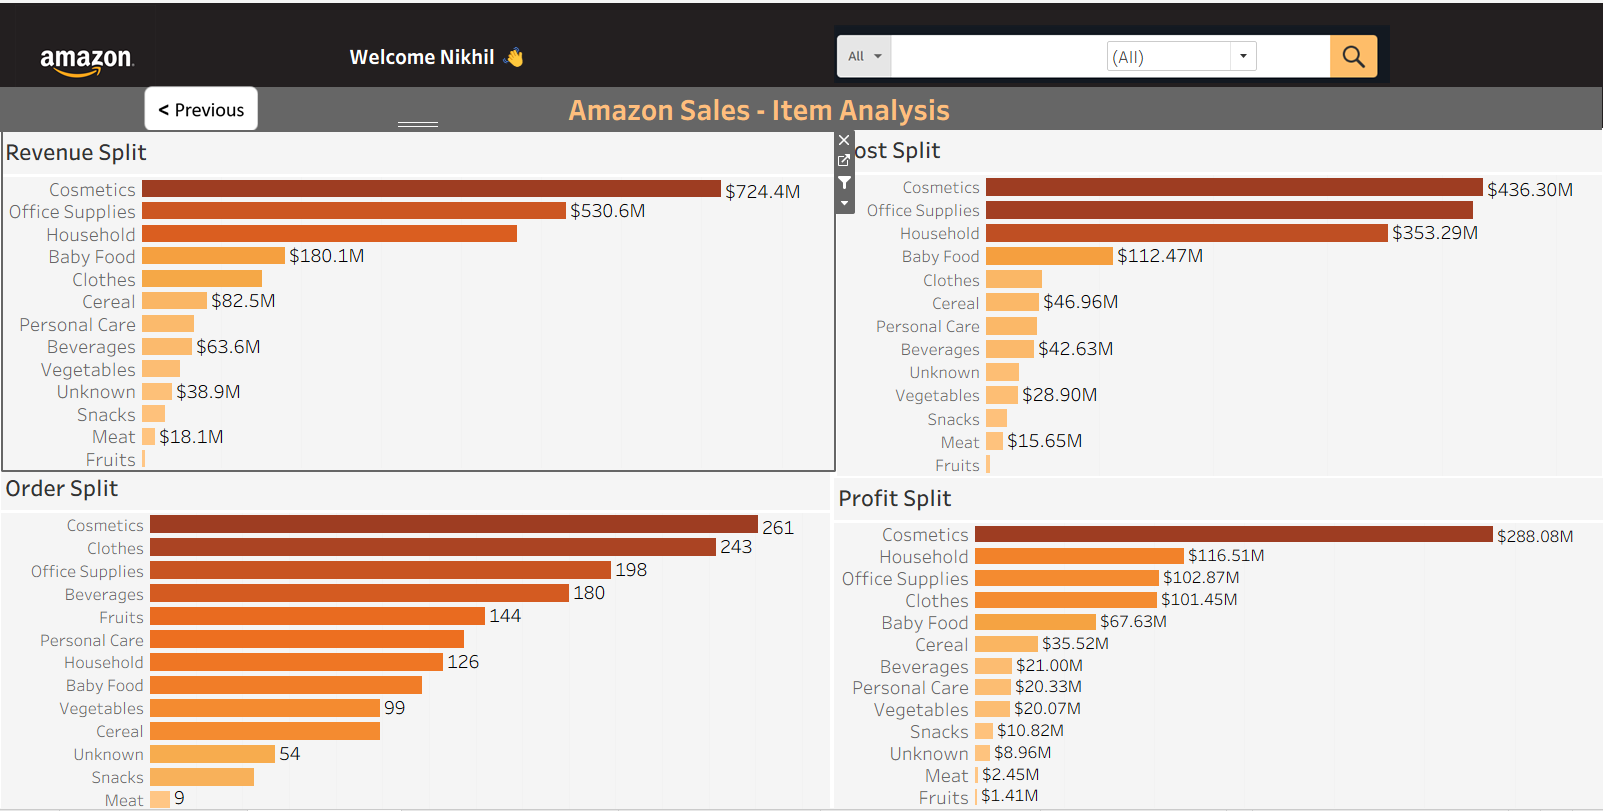

The dashboard page shown, as its layout file describes it:
{"tool":"tableau","page":{"name":"Item Analysis","canvas":[1000,1000],"units":"permille","ordinal":3},"visuals":[{"type":"image","param":"C:/Users/hp/Downloads/amazon-dark-logo-png-transparent.png","box":[8.4,1.2,130.5,147.6]},{"type":"blank","box":[557.1,44.7,124.5,38.5]},{"type":"text","box":[215.3,47.1,135.9,37.2]},{"type":"filter","title":"Revenue Split","param":"[federated.1ban9mo0hcdupx14aw0f51tcerp8].[none:Item Type:nk]","box":[688,47.1,97.2,37.2]},{"type":"dashboard-object","box":[72.9,103,104.5,62]},{"type":"text","box":[351.8,104.2,306.7,54.6]},{"type":"worksheet","title":"Cost Split","mark":"Automatic","rows":["Item Type"],"cols":["Total Cost"],"box":[522,157.6,477.4,429.3]},{"type":"worksheet","title":"Revenue Split","mark":"Automatic","rows":["Item Type"],"cols":["Total Revenue"],"box":[0.6,160.1,519.6,419.4]},{"type":"worksheet","title":"Order Split","mark":"Automatic","rows":["Item Type"],"cols":["Calculation_0982161992761345"],"box":[0.6,576.9,516.6,425.6]},{"type":"worksheet","title":"Profit Split","mark":"Automatic","rows":["Item Type"],"cols":["Calculation_1557755946881024"],"box":[520.2,589.3,479.8,409.4]}]}

Visuals, with their boxes on the dashboard's canvas, which has no fixed pixel size, in thousandths of its width and height (x1, y1, x2, y2). These are canvas units, not pixel positions in the 1603x811 screenshot, which may show the page scaled, cropped or inside an application window:
image: [left=8, top=1, right=139, bottom=149]
blank: [left=557, top=45, right=682, bottom=83]
text: [left=215, top=47, right=351, bottom=84]
"Revenue Split" filter: [left=688, top=47, right=785, bottom=84]
dashboard-object: [left=73, top=103, right=177, bottom=165]
text: [left=352, top=104, right=658, bottom=159]
"Cost Split" worksheet: [left=522, top=158, right=999, bottom=587]
"Revenue Split" worksheet: [left=1, top=160, right=520, bottom=580]
"Order Split" worksheet: [left=1, top=577, right=517, bottom=1002]
"Profit Split" worksheet: [left=520, top=589, right=1000, bottom=999]
